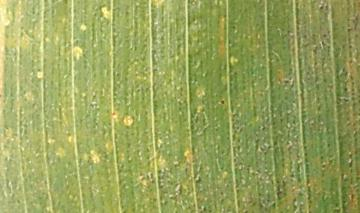tarspot: (218, 98, 227, 107)
